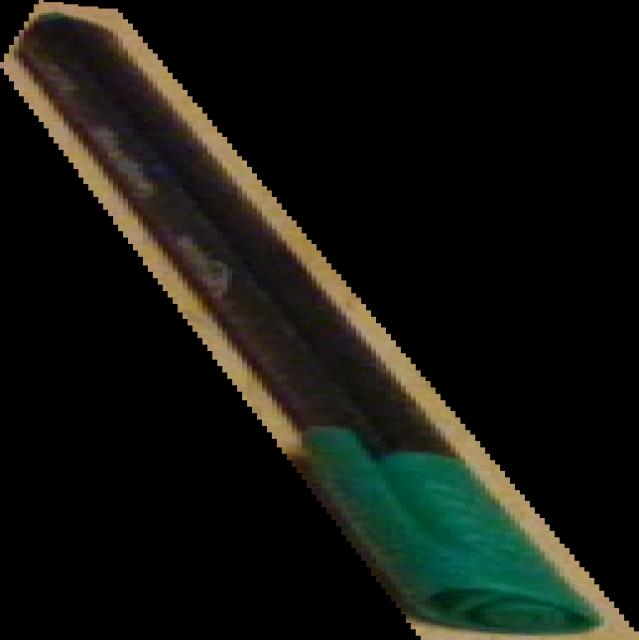green: (0, 0, 639, 640)
